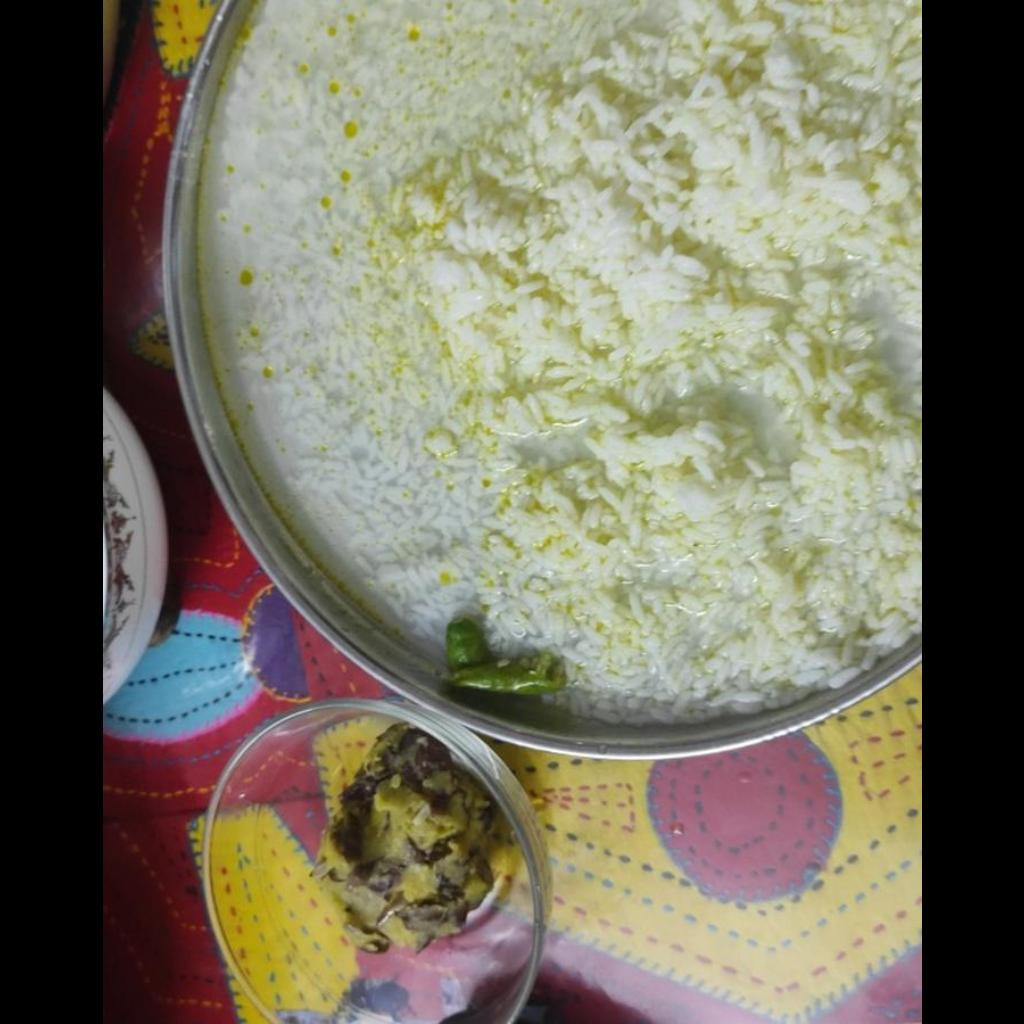rice: (198, 1, 918, 725)
vegetable: (300, 723, 507, 952)
